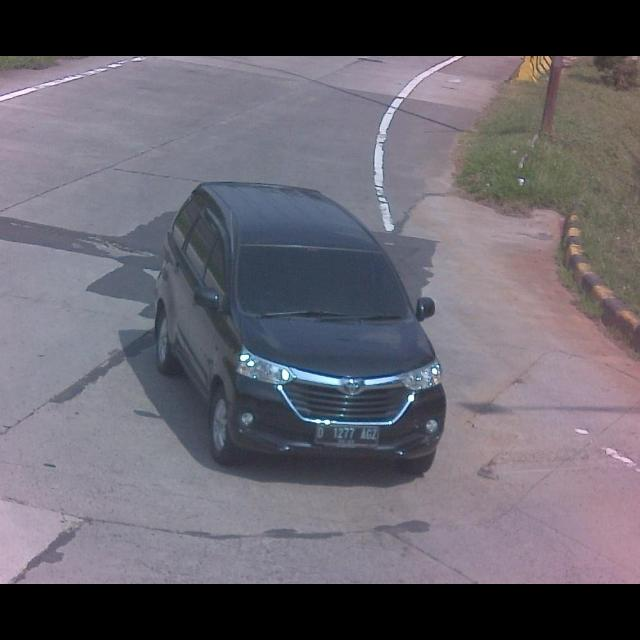plate: (314, 424, 382, 452)
